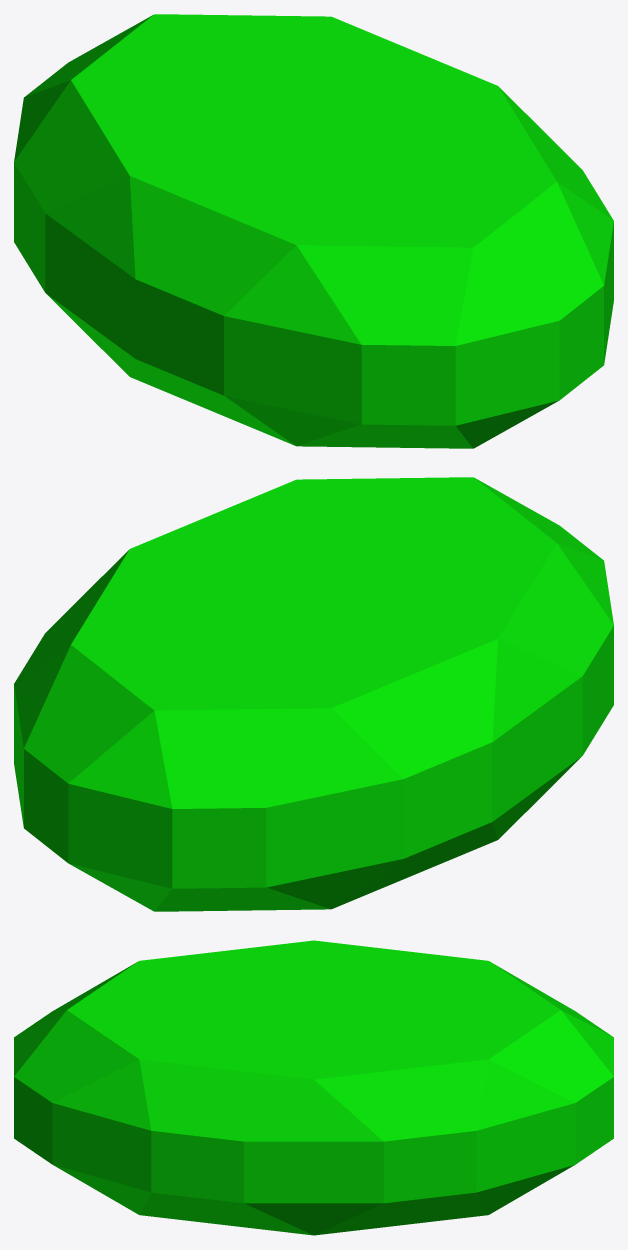
3 renders of one model, top to bottom at view 1: azimuth 30°, elevation 25°; view 2: azimuth 150°, elevation 25°; view 3: azimuth 270°, elevation 25°, orthographic. The views are drawn at different scales.
Visible parts, largest first — view 1: Emerald; view 2: Emerald; view 3: Emerald.
Part boxes in pixels (x1,y1,x2,y2): Emerald: [14, 14, 613, 448]; Emerald: [14, 477, 613, 911]; Emerald: [14, 940, 613, 1235].
Size of the model in its own units: 216 by 92.85 by 324.
